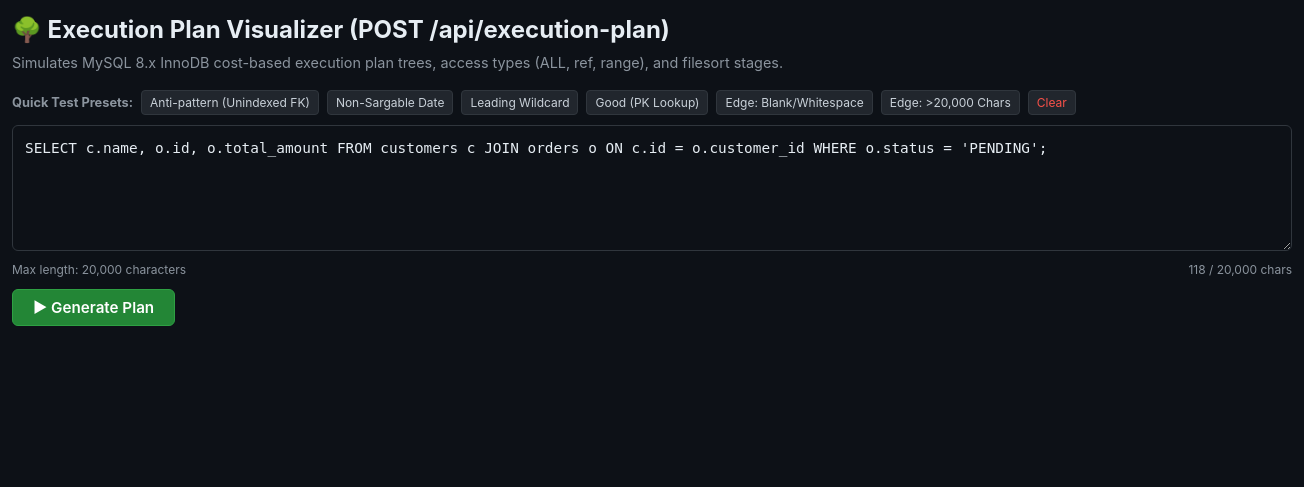
it: ExecutionPlanPage Component › handles 422 Unprocessable Entity validation error
Click the button "▶ Generate Plan".
click(94, 308)  # box x1=12 y1=289 x2=175 y2=326
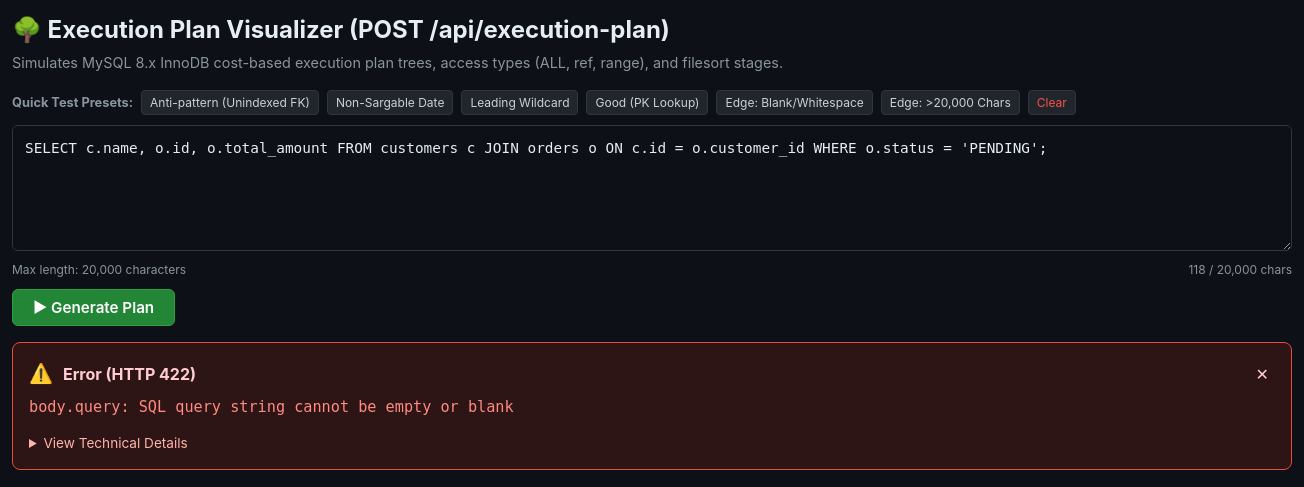
Check: the text "body.query: SQL query string cannot be empty or blank" is shown, box x1=29 y1=398 x2=514 y2=416
Check: the text "Error (HTTP 422)" is shown, box x1=63 y1=362 x2=196 y2=386
